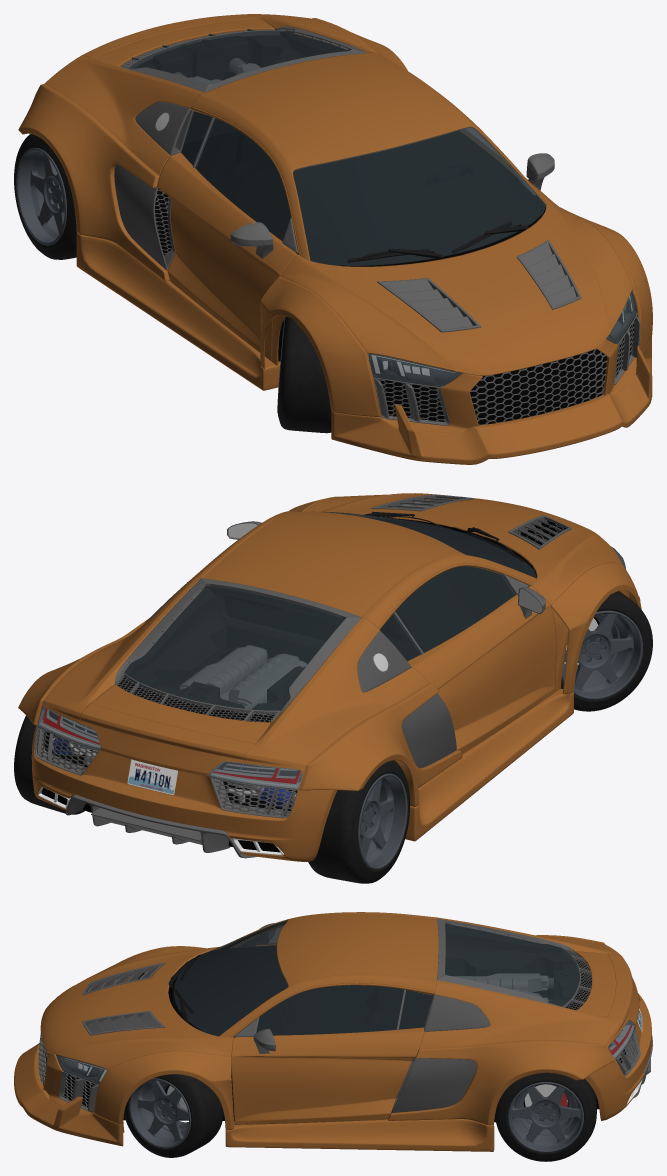
Rendered from audi-r8-high.glb.
3 views of the same model, one above another, from view 1: azimuth 30°, elevation 25°; view 2: azimuth 150°, elevation 25°; view 3: azimuth 270°, elevation 25° (orthographic). The views are drawn at different scales.
Parts seen in each view (by area): view 1: body, wheel_rear_right, wheel_front_right; view 2: body, wheel_rear_right, wheel_front_right, wheel_rear_left; view 3: body, wheel_rear_left, wheel_front_left.
Part boxes in pixels (box(x1,y1,x2,y2)): body: box(18, 14, 652, 464); wheel_rear_right: box(14, 134, 76, 259); wheel_front_right: box(277, 316, 331, 433); body: box(18, 493, 641, 861); wheel_rear_right: box(308, 760, 410, 883); wheel_front_right: box(561, 591, 652, 711); wheel_rear_left: box(14, 715, 85, 814); body: box(14, 912, 652, 1151); wheel_rear_left: box(495, 1073, 596, 1161); wheel_front_left: box(124, 1074, 223, 1157).
Size of the model in its own units: 2.31 by 1.24 by 4.43.
Materials: 15 (5 with a texture image).
